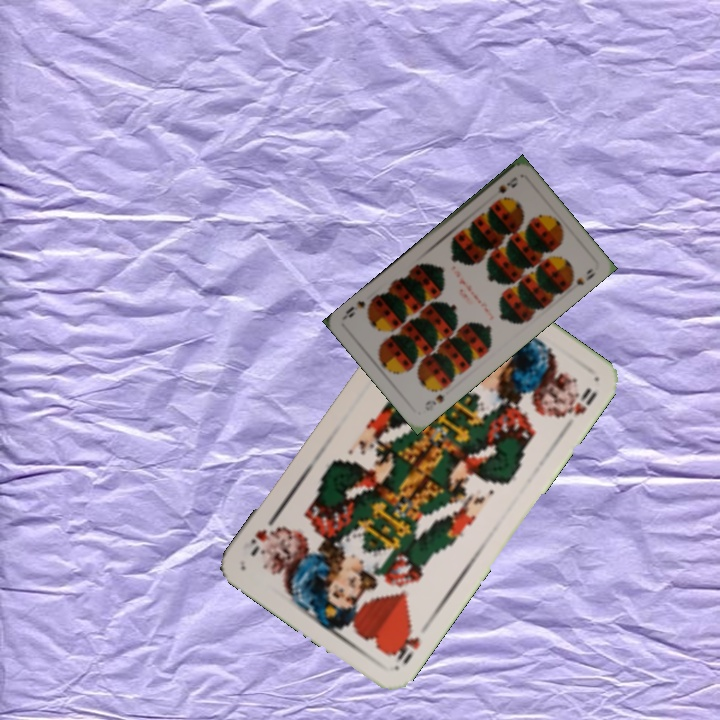HO: (388, 621, 423, 668)
S9: (420, 390, 447, 414), (493, 173, 520, 196)
